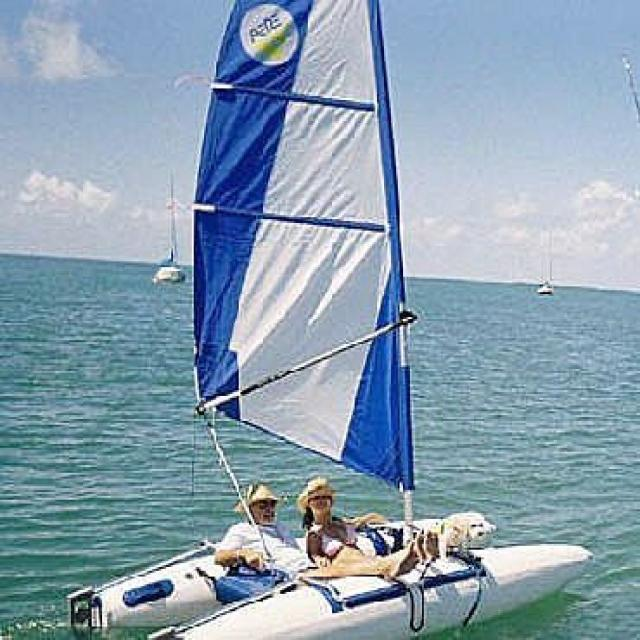Ship: (70, 1, 596, 633)
